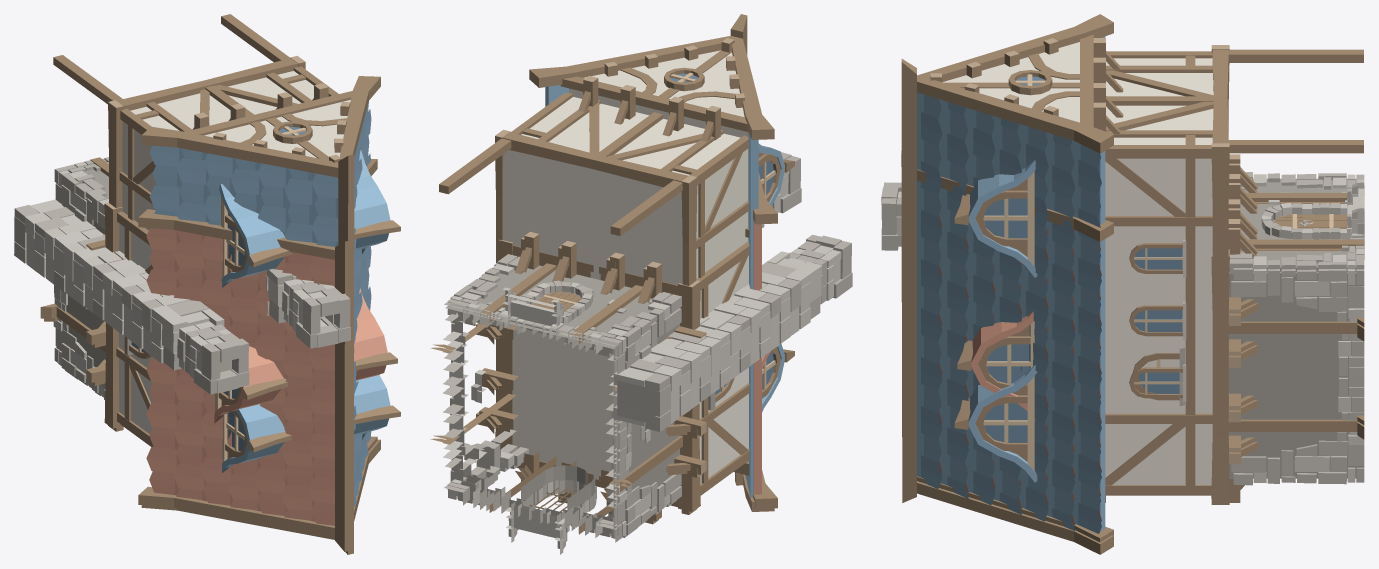
File: CottageHouses.glb
3 views of the same model, side by side, from view 1: azimuth 30°, elevation 25°; view 2: azimuth 150°, elevation 25°; view 3: azimuth 270°, elevation 25° (orthographic). The views are drawn at different scales.
Parts seen in each view (by area): view 1: House_2, House_1, House_4; view 2: House_2, House_1, House_4; view 3: House_2, House_1, House_4.
Boxes of the visible parts, x1,y1,x2,y2 form: House_2: [14, 14, 400, 554]; House_1: [40, 157, 397, 551]; House_4: [49, 158, 122, 426]; House_2: [430, 14, 852, 542]; House_1: [439, 152, 801, 554]; House_4: [433, 241, 685, 550]; House_2: [901, 14, 1364, 554]; House_1: [881, 151, 1364, 542]; House_4: [1228, 172, 1364, 481].
Size of the model in its own units: 0.0222 by 0.0342 by 0.0339.
